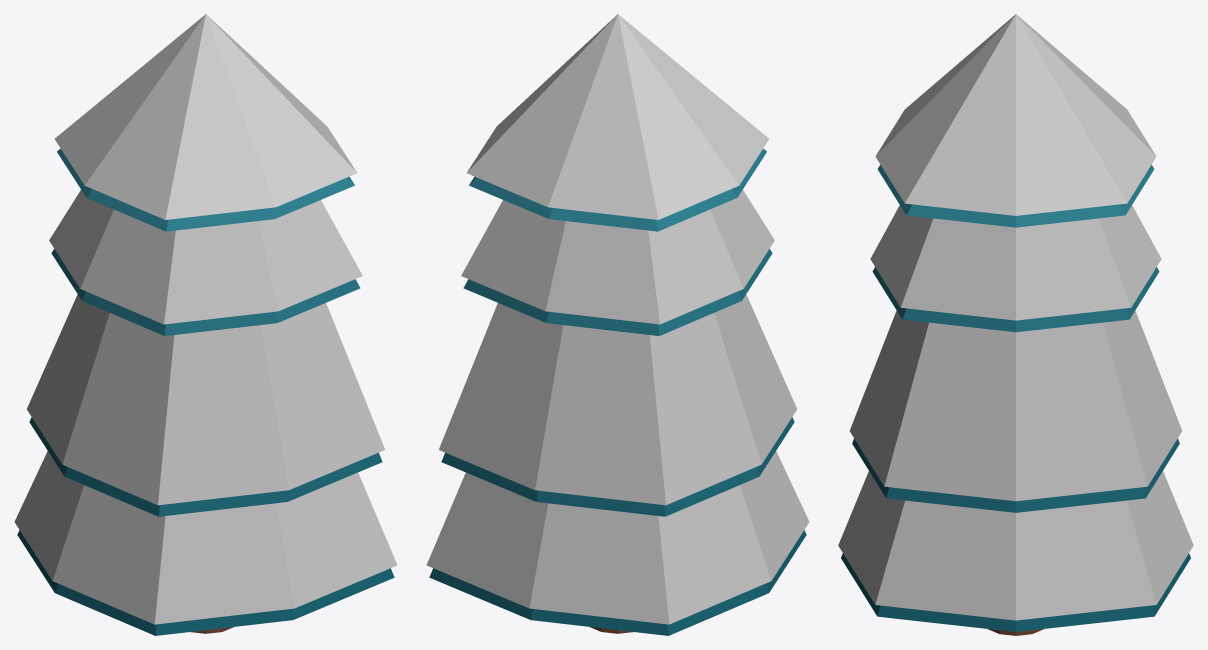
File: Tree_22_winter_gradient_blue_vc.fbx
3 renders of one model, left to right at view 1: azimuth 30°, elevation 25°; view 2: azimuth 150°, elevation 25°; view 3: azimuth 270°, elevation 25°, orthographic.
Visible parts, largest first — view 1: Tree_22_winter_gradient_blue_vc; view 2: Tree_22_winter_gradient_blue_vc; view 3: Tree_22_winter_gradient_blue_vc.
Boxes of the visible parts, bbox=[...] form: Tree_22_winter_gradient_blue_vc: bbox=[14, 14, 397, 635]; Tree_22_winter_gradient_blue_vc: bbox=[426, 14, 809, 635]; Tree_22_winter_gradient_blue_vc: bbox=[838, 14, 1193, 635].
Size of the model in its own units: 84.01 by 159 by 84.01.
